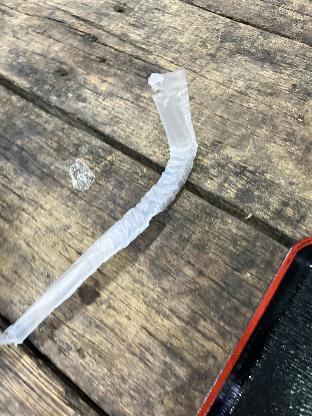Others: (0, 65, 192, 349)
